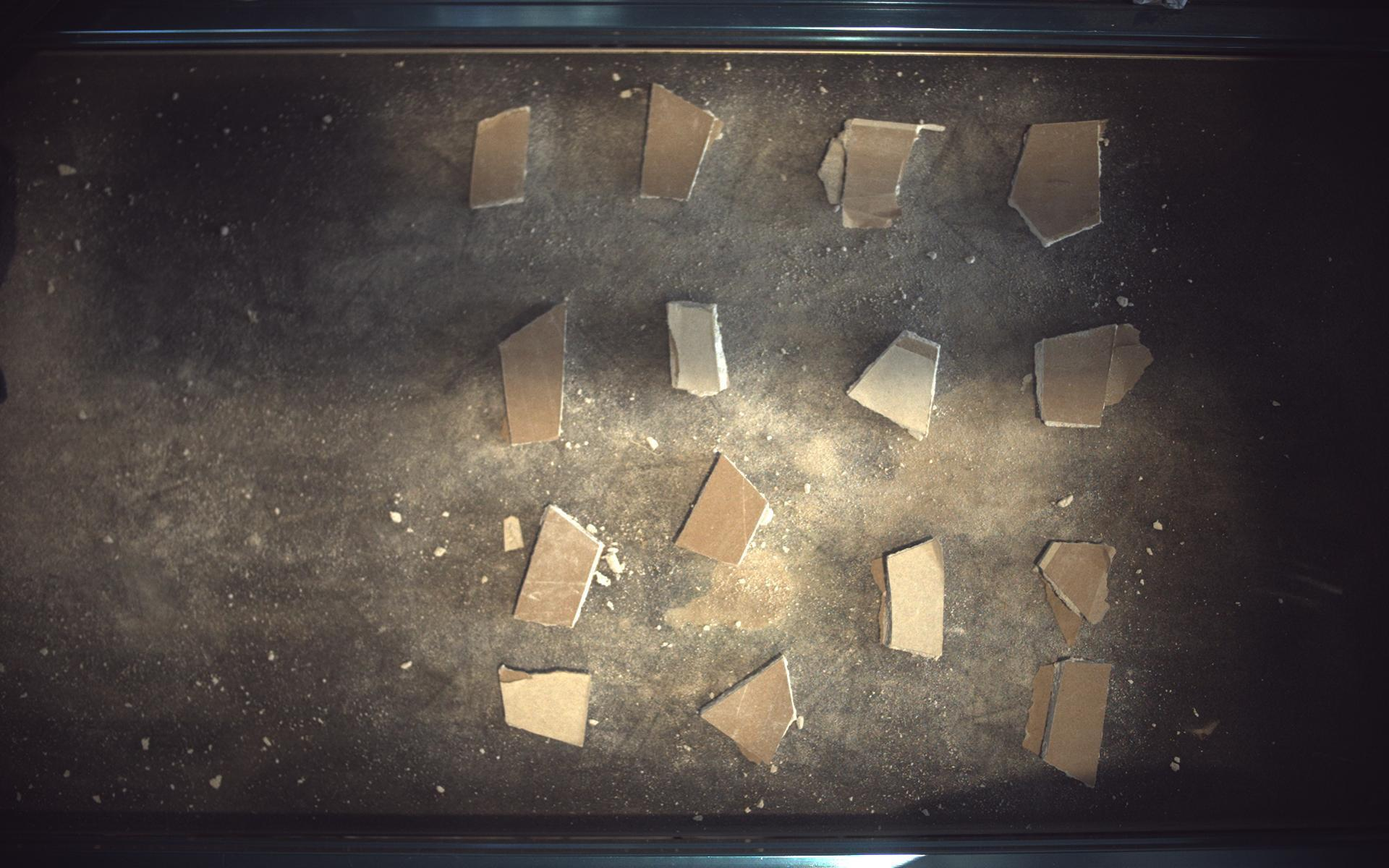gypsum_board: (820, 117, 947, 228), (1010, 119, 1109, 246), (1037, 323, 1156, 427), (1025, 660, 1115, 788), (514, 505, 605, 629), (701, 656, 797, 765), (849, 330, 943, 441), (676, 454, 770, 565), (641, 82, 723, 200), (499, 303, 567, 445), (872, 538, 947, 660), (1040, 541, 1118, 648), (498, 665, 591, 748), (470, 105, 530, 208), (668, 301, 730, 397)
